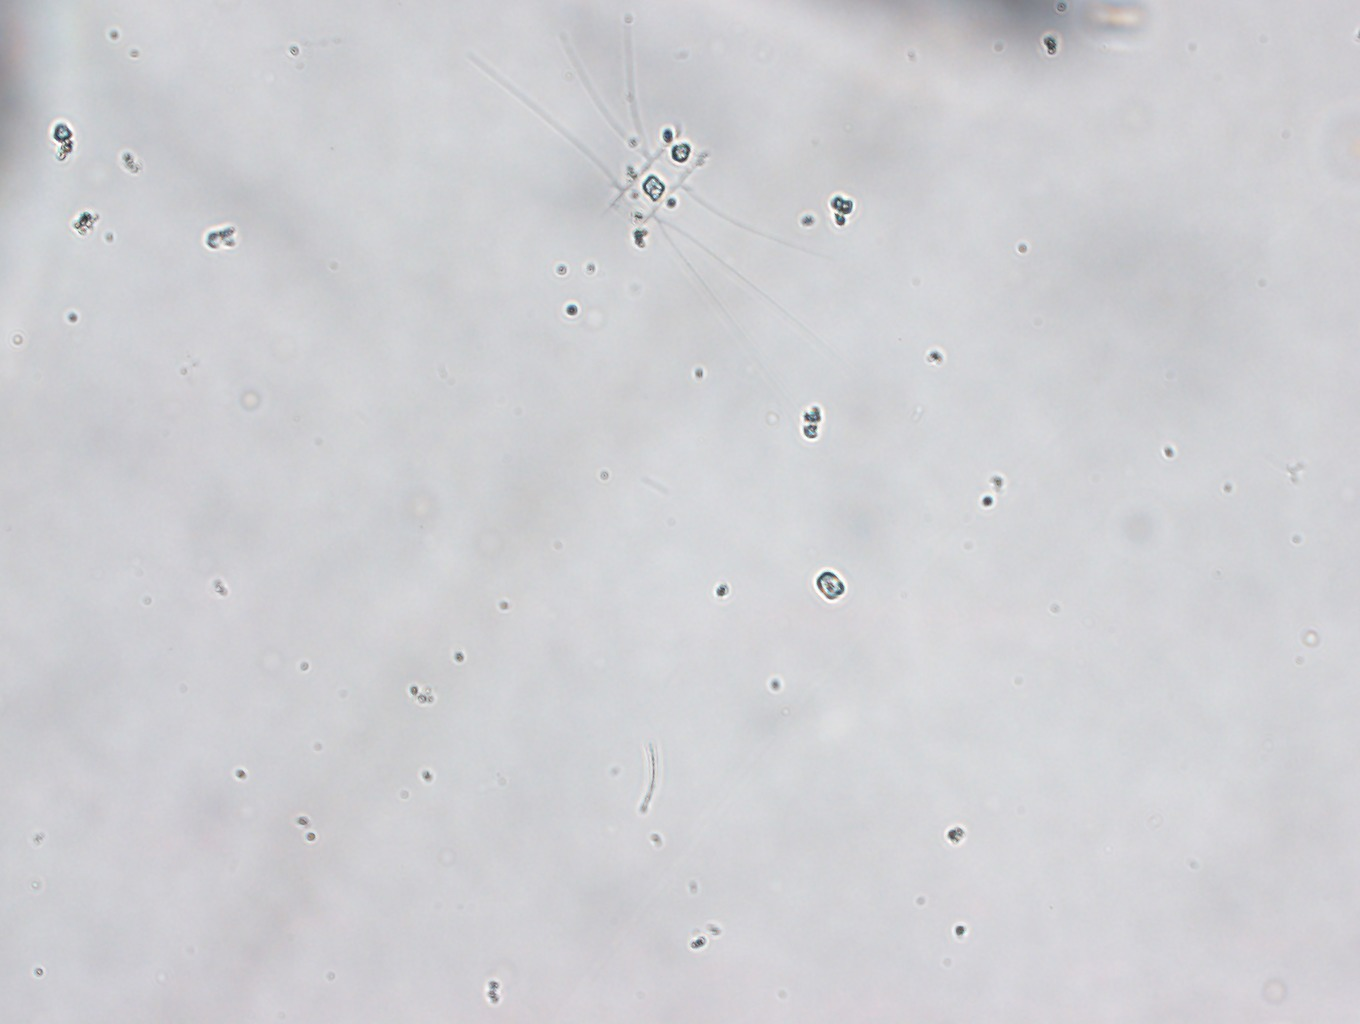chaetoceros: (464, 12, 844, 355)
